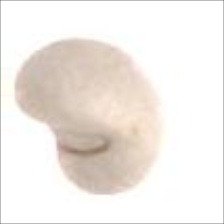L5: (45, 118, 115, 159), (121, 51, 163, 114)
L6: (11, 35, 165, 201)
